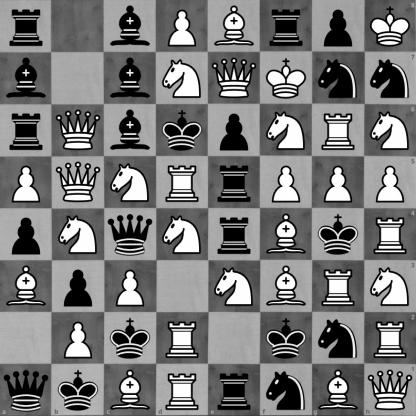B: (104, 364, 156, 416), (312, 364, 364, 416), (1, 261, 52, 312), (209, 1, 260, 52), (261, 209, 312, 260), (261, 261, 312, 312)
K: (364, 0, 416, 52), (261, 53, 312, 104)
N: (364, 104, 416, 156), (364, 260, 416, 312), (53, 209, 104, 260), (105, 157, 156, 208), (157, 53, 208, 104), (157, 209, 208, 260), (209, 261, 260, 312), (261, 105, 312, 156)
P: (364, 156, 416, 209), (1, 157, 52, 208), (53, 313, 104, 364), (105, 261, 156, 312), (157, 1, 208, 52), (261, 157, 312, 208), (313, 157, 364, 208)
Q: (364, 364, 416, 416), (53, 105, 104, 156), (53, 157, 104, 208), (209, 53, 260, 104)
R: (156, 364, 209, 416), (364, 312, 416, 364), (364, 209, 416, 260), (157, 157, 208, 208), (157, 313, 208, 364), (313, 105, 364, 156), (313, 261, 364, 312)
b: (1, 53, 52, 104), (105, 1, 156, 52), (105, 53, 156, 104), (105, 105, 156, 156)
board: (0, 0, 415, 415)
k: (52, 364, 104, 416), (105, 313, 156, 364), (157, 105, 208, 156), (261, 313, 312, 364), (313, 209, 364, 260)
n: (260, 364, 312, 416), (364, 52, 416, 104), (313, 53, 364, 104), (313, 313, 364, 364)
p: (1, 209, 52, 260), (53, 261, 104, 312), (209, 105, 260, 156), (313, 1, 364, 52)
q: (0, 364, 52, 416), (105, 209, 156, 260)
r: (209, 364, 260, 416), (1, 1, 52, 52), (1, 105, 52, 156), (209, 157, 260, 208), (209, 209, 260, 260), (261, 1, 312, 52)
